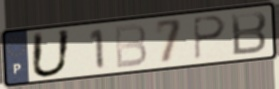1: (87, 27, 107, 70)
7: (153, 16, 187, 66)
B: (229, 9, 269, 58), (112, 22, 149, 71)
P: (191, 14, 228, 63)
U: (29, 28, 74, 80)
